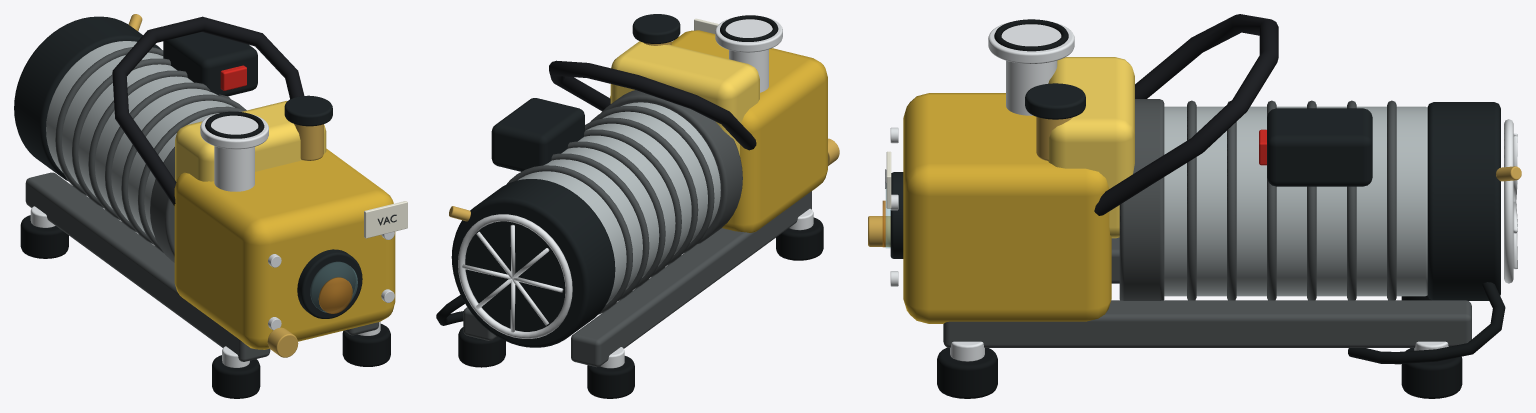
The model's file is vacuum-pump.glb.
3 views of the same model, side by side, from view 1: azimuth 30°, elevation 25°; view 2: azimuth 150°, elevation 25°; view 3: azimuth 270°, elevation 25° (orthographic). The views are drawn at different scales.
Parts seen in each view (by area): view 1: PBR Room 809 aged yellow powder coat, PBR Dark phosphated service metal, PBR Black engineering polymer, PBR Satin cast aluminum, PBR Matte black coated handle, PBR Black EPDM isolation rubber, PBR Polished stainless hardware, PBR Warm ochre edge and knob, PBR Machined brass fittings, PBR Generic equipment label stock, PBR Translucent amber oil and bath fluid, PBR Borosilicate equipment glass (+1 smaller); view 2: PBR Black engineering polymer, PBR Dark phosphated service metal, PBR Satin cast aluminum, PBR Room 809 aged yellow powder coat, PBR Polished stainless hardware, PBR Warm ochre edge and knob, PBR Black EPDM isolation rubber, PBR Matte black coated handle, PBR Machined brass fittings; view 3: PBR Room 809 aged yellow powder coat, PBR Dark phosphated service metal, PBR Satin cast aluminum, PBR Black engineering polymer, PBR Warm ochre edge and knob, PBR Black EPDM isolation rubber, PBR Matte black coated handle, PBR Polished stainless hardware, PBR Machined brass fittings.
Boxes of the visible parts, box(x1,y1,x2,y2) form: PBR Room 809 aged yellow powder coat: box(174, 148, 395, 349); PBR Dark phosphated service metal: box(25, 47, 378, 361); PBR Black engineering polymer: box(14, 16, 362, 318); PBR Satin cast aluminum: box(46, 41, 234, 236); PBR Matte black coated handle: box(112, 16, 304, 205); PBR Black EPDM isolation rubber: box(20, 111, 390, 398); PBR Polished stainless hardware: box(30, 113, 394, 367); PBR Warm ochre edge and knob: box(175, 101, 326, 181); PBR Machined brass fittings: box(128, 14, 323, 357); PBR Generic equipment label stock: box(364, 201, 407, 238); PBR Translucent amber oil and bath fluid: box(318, 277, 352, 313); PBR Borosilicate equipment glass: box(310, 262, 357, 312); PBR Black engineering polymer: box(451, 14, 680, 347); PBR Dark phosphated service metal: box(463, 90, 811, 367); PBR Satin cast aluminum: box(518, 102, 720, 304); PBR Room 809 aged yellow powder coat: box(610, 30, 827, 232); PBR Polished stainless hardware: box(458, 17, 813, 368); PBR Warm ochre edge and knob: box(610, 41, 759, 155); PBR Black EPDM isolation rubber: box(436, 15, 823, 398); PBR Matte black coated handle: box(549, 60, 756, 150); PBR Machined brass fittings: box(449, 41, 839, 221); PBR Room 809 aged yellow powder coat: box(903, 93, 1111, 323); PBR Dark phosphated service metal: box(943, 99, 1471, 347); PBR Satin cast aluminum: box(1164, 106, 1427, 296); PBR Black engineering polymer: box(890, 83, 1500, 300); PBR Warm ochre edge and knob: box(1048, 57, 1134, 238); PBR Black EPDM isolation rubber: box(937, 19, 1505, 398); PBR Matte black coated handle: box(1094, 14, 1278, 215); PBR Polished stainless hardware: box(890, 22, 1517, 361); PBR Machined brass fittings: box(868, 117, 1521, 246).
Bounding box in the file's own units: 0.1655 × 0.2227 × 0.419.
